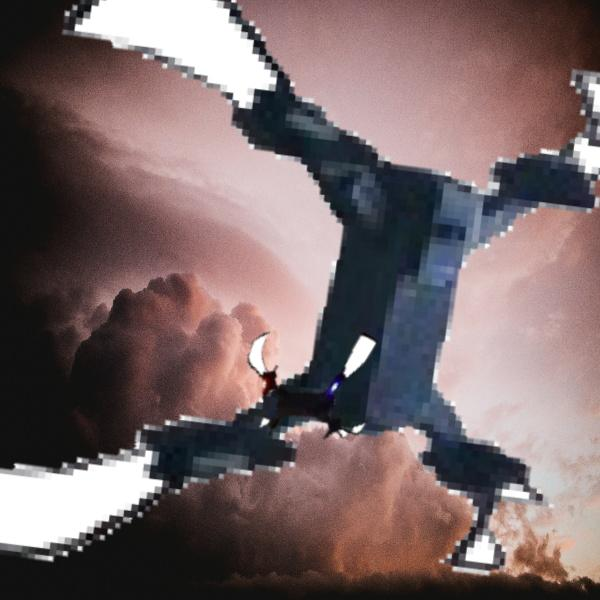drone: (236, 312, 384, 460)
